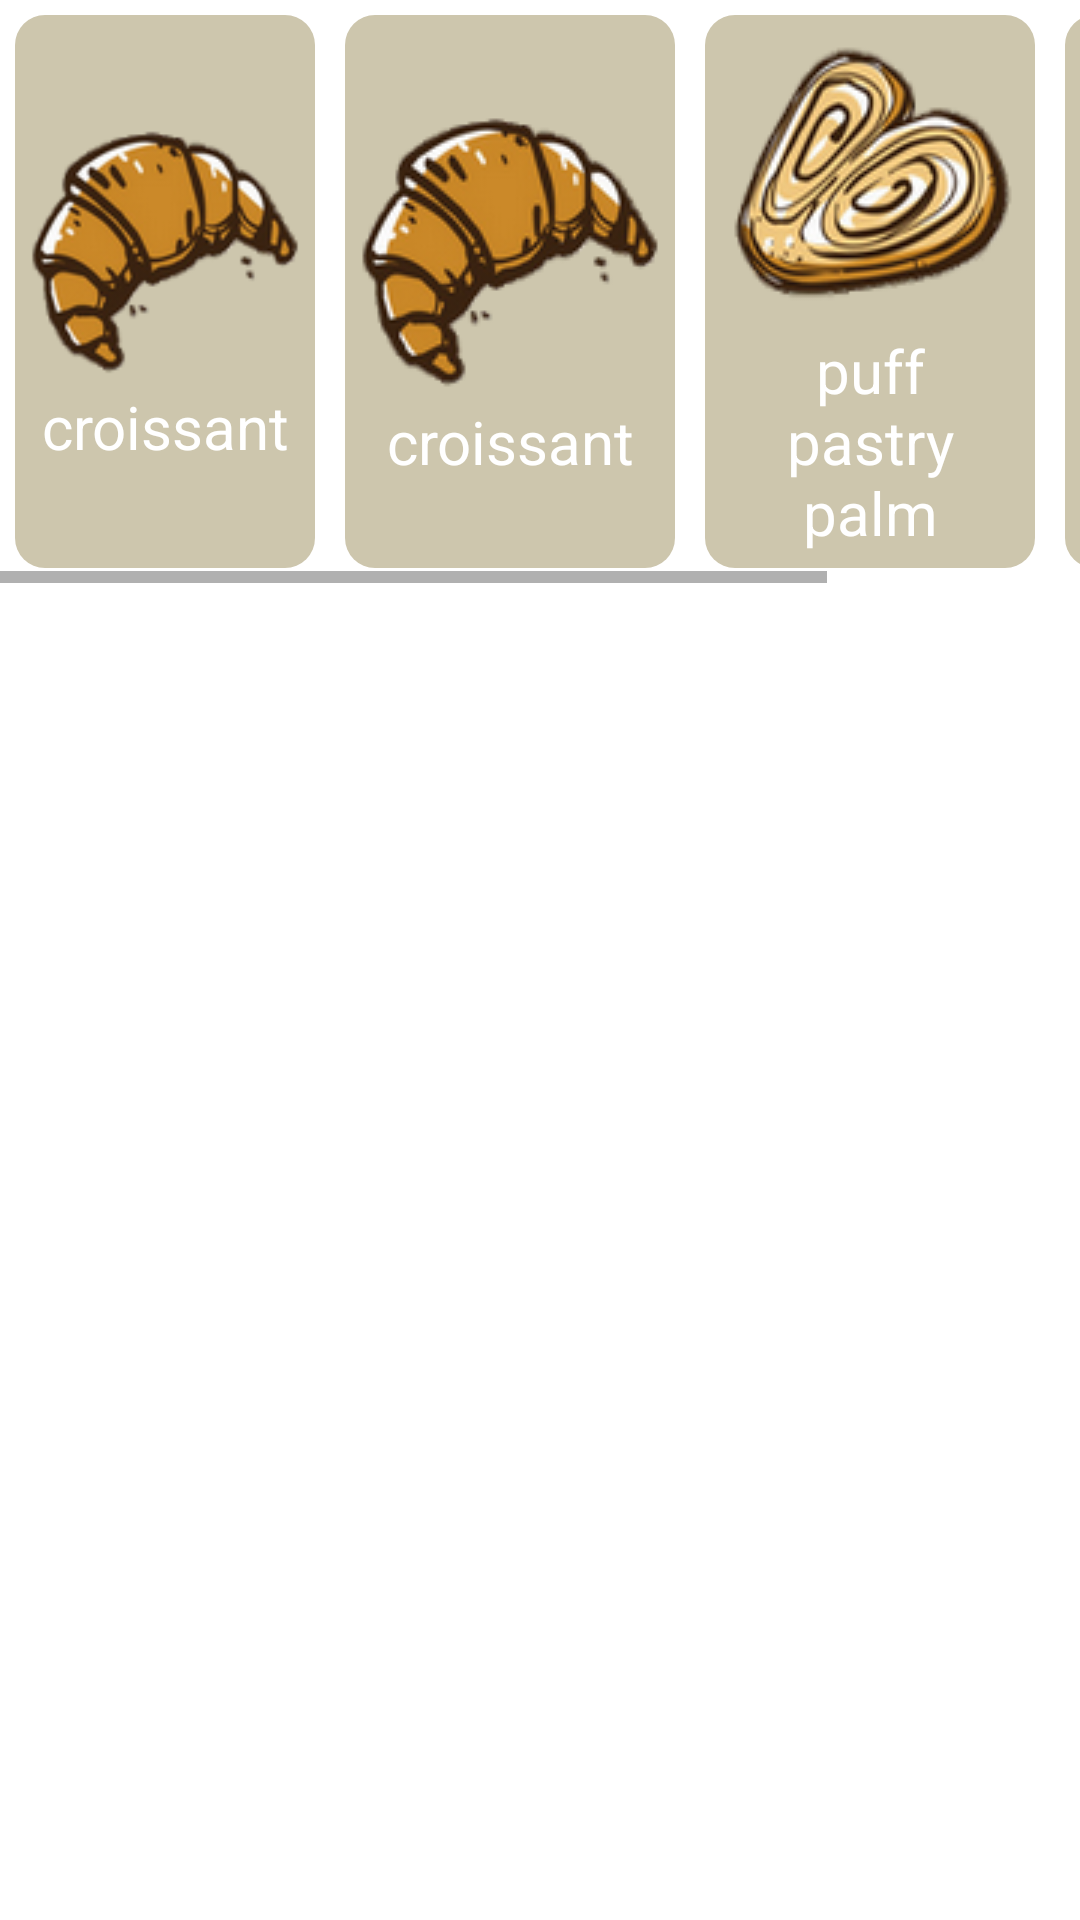

Icon bounding boxes for this 1080px x 1920px phone screenshot, format box(x1, y1, x2, y2):
palmier: box(735, 49, 1010, 297)
